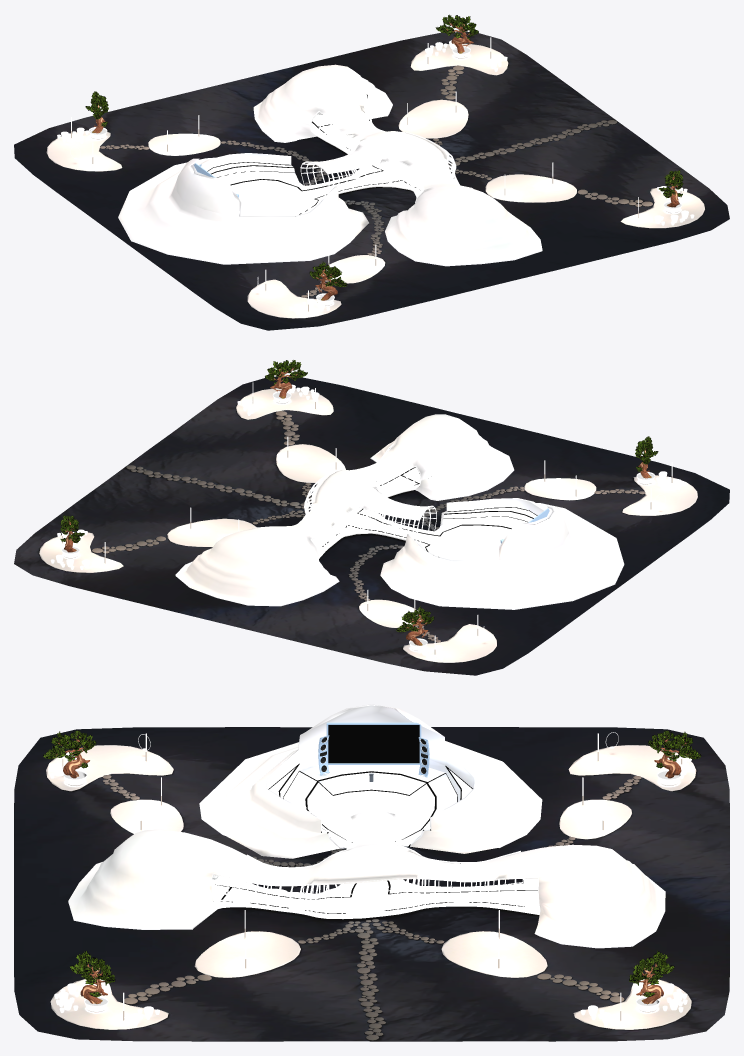
File: hello_world.glb
3 renders of one model, top to bottom at view 1: azimuth 30°, elevation 25°; view 2: azimuth 150°, elevation 25°; view 3: azimuth 270°, elevation 25°, orthographic. The views are drawn at different scales.
Parts seen in each view (by area): view 1: Ocean_low.001, Facade, Rocks.001, Rocks, Windows, Crown_branch base color_0.003, Tables, Crown_branch base color_0.001, Lamps; view 2: Ocean_low.001, Facade, Rocks.001, Rocks, Windows, Crown_branch base color_0.003, Tables, Crown_branch base color_0.001, Lamps; view 3: Ocean_low.001, Facade, Rocks.001, Windows, Crown_branch base color_0.003, Rocks, Cube.001, Tables, Facade.001, Crown_branch base color_0.001, Lamps.
Boxes of the visible parts, x1,y1,x2,y2 form: Ocean_low.001: [14, 32, 729, 330]; Facade: [118, 64, 542, 265]; Rocks.001: [46, 43, 704, 318]; Rocks: [100, 65, 652, 297]; Windows: [300, 89, 472, 202]; Crown_branch base color_0.003: [85, 14, 683, 300]; Tables: [57, 40, 694, 315]; Crown_branch base color_0.001: [88, 46, 682, 305]; Lamps: [71, 37, 681, 311]; Ocean_low.001: [14, 376, 729, 675]; Facade: [175, 414, 623, 609]; Rocks.001: [39, 388, 697, 662]; Rocks: [92, 411, 645, 642]; Windows: [253, 444, 436, 558]; Crown_branch base color_0.003: [60, 360, 658, 645]; Tables: [50, 384, 686, 661]; Crown_branch base color_0.001: [61, 391, 655, 650]; Lamps: [62, 382, 672, 654]; Ocean_low.001: [14, 727, 729, 1041]; Facade: [68, 704, 665, 947]; Rocks.001: [46, 745, 696, 1029]; Windows: [211, 813, 540, 917]; Crown_branch base color_0.003: [43, 730, 701, 1004]; Rocks: [102, 775, 641, 1040]; Cube.001: [326, 722, 421, 764]; Tables: [49, 752, 691, 1026]; Facade.001: [215, 771, 537, 913]; Crown_branch base color_0.001: [63, 769, 681, 1011]; Lamps: [62, 733, 682, 1020].
Size of the model in its own units: 135 by 13.64 by 130.
21 materials, 6 textured.
